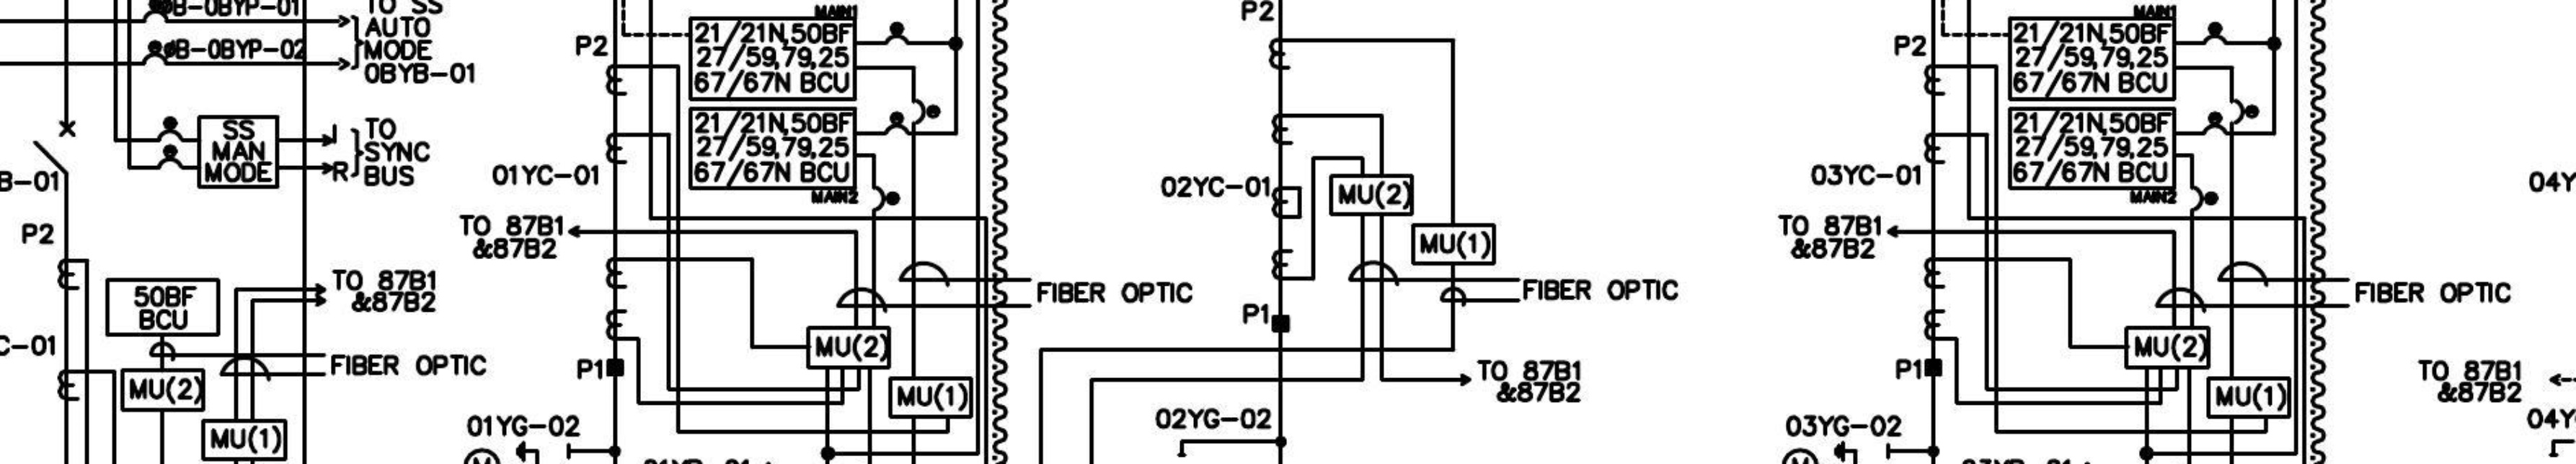115_breaker: (32, 120, 76, 175)
MU: (120, 367, 206, 413), (805, 325, 892, 370), (200, 419, 287, 463), (888, 376, 974, 420), (1329, 173, 1415, 217), (1411, 222, 1497, 266), (2125, 325, 2210, 369), (2206, 376, 2292, 419)
ss_man_mode: (197, 115, 280, 190)
